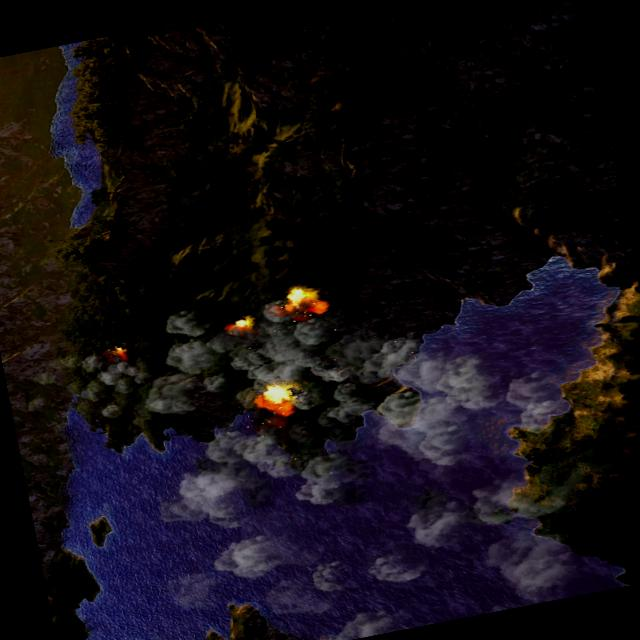fire: (280, 279, 331, 319), (259, 380, 300, 417), (230, 316, 256, 332), (110, 344, 130, 360)
smoke: (70, 239, 606, 640)
